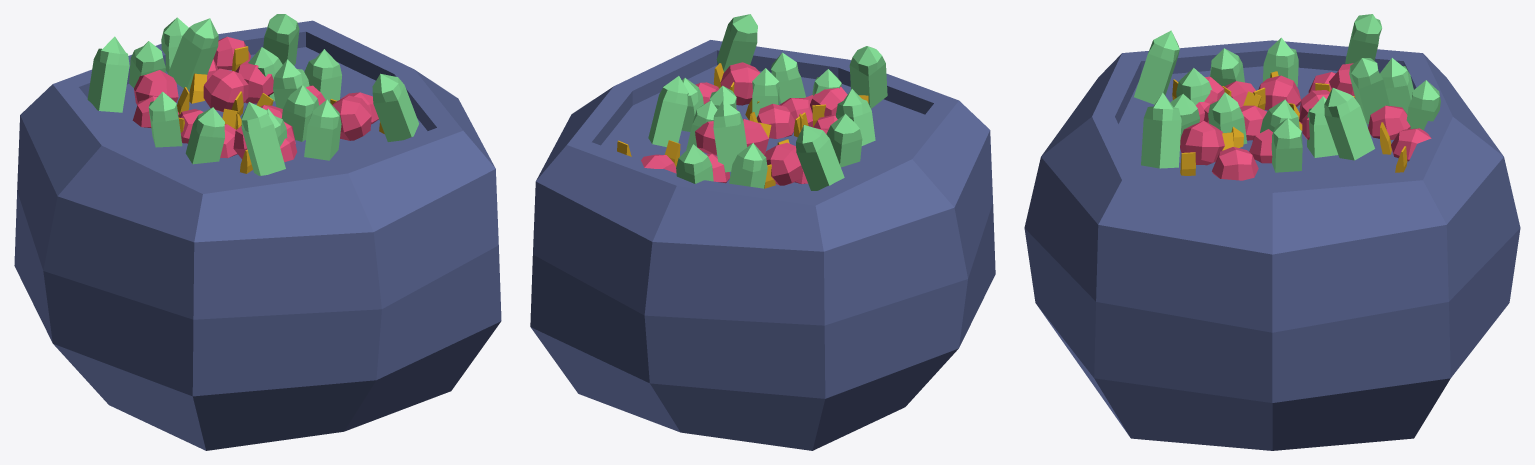
Rendered from candy bowl.fbx.
The picture shows the model from 3 angles, left to right: view 1: azimuth 30°, elevation 25°; view 2: azimuth 150°, elevation 25°; view 3: azimuth 270°, elevation 25°; orthographic projection. The views are drawn at different scales.
Visible parts, largest first — view 1: candy bowl, candy; view 2: candy bowl, candy; view 3: candy bowl, candy.
Boxes of the visible parts, bbox=[...] form: candy bowl: bbox=[14, 20, 501, 450]; candy: bbox=[87, 14, 418, 175]; candy bowl: bbox=[530, 40, 995, 450]; candy: bbox=[617, 14, 887, 190]; candy bowl: bbox=[1024, 40, 1520, 450]; candy: bbox=[1134, 14, 1440, 180].
Bounding box in the file's own units: 29.57 × 29.57 × 21.
